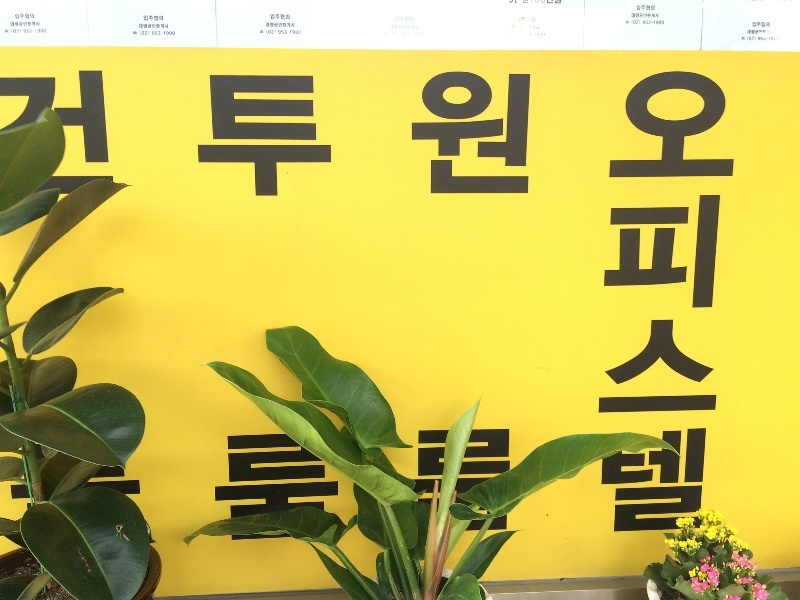text: (625, 69, 640, 533), (641, 69, 656, 533), (657, 69, 672, 533), (673, 69, 688, 533), (689, 69, 704, 533), (705, 69, 720, 533), (721, 69, 736, 533), (610, 69, 624, 533), (737, 69, 743, 533), (1, 72, 16, 200), (17, 72, 32, 200), (33, 72, 48, 200), (49, 72, 64, 200), (65, 72, 80, 200), (81, 72, 96, 200), (97, 72, 112, 200), (113, 72, 128, 200), (129, 72, 144, 200), (145, 72, 160, 200), (161, 72, 176, 200), (177, 72, 192, 200), (193, 72, 208, 200), (209, 72, 224, 200), (225, 72, 240, 200), (241, 72, 256, 200), (257, 72, 272, 200), (273, 72, 288, 200), (289, 72, 304, 200), (305, 72, 320, 200), (321, 72, 336, 200), (337, 72, 352, 200), (353, 72, 368, 200), (369, 72, 384, 200), (385, 72, 400, 200), (401, 72, 416, 200), (417, 72, 432, 200), (433, 72, 448, 200), (449, 72, 464, 200), (465, 72, 480, 200), (481, 72, 496, 200), (497, 72, 512, 200), (513, 72, 528, 200), (497, 428, 513, 534), (225, 434, 240, 544), (241, 434, 256, 544), (257, 434, 272, 544), (273, 434, 288, 544), (289, 434, 304, 544), (305, 434, 320, 544), (321, 434, 336, 544), (417, 428, 432, 534), (433, 428, 448, 534), (449, 428, 464, 534), (465, 428, 480, 534), (481, 428, 496, 534), (337, 434, 350, 544), (217, 434, 224, 544), (529, 72, 532, 200), (414, 428, 416, 534), (753, 22, 768, 28), (273, 14, 288, 20), (145, 16, 160, 22), (641, 5, 655, 11), (531, 17, 544, 23), (401, 25, 416, 30), (273, 23, 288, 28), (145, 24, 160, 29), (17, 14, 32, 19), (161, 31, 175, 36), (401, 17, 414, 22), (403, 32, 416, 37), (753, 30, 768, 34), (641, 14, 656, 18), (513, 1, 528, 5), (529, 1, 544, 5), (545, 1, 560, 5), (518, 17, 528, 23), (532, 26, 544, 31), (289, 30, 301, 35), (17, 22, 32, 26), (33, 29, 47, 33), (643, 21, 656, 25), (391, 25, 400, 30), (279, 30, 288, 35), (151, 31, 160, 36), (521, 17, 528, 23), (758, 37, 768, 41), (769, 37, 779, 41), (161, 24, 169, 29), (535, 33, 544, 37), (632, 14, 640, 18), (632, 21, 640, 25), (24, 29, 32, 33), (266, 23, 272, 28), (289, 23, 295, 28), (657, 21, 664, 25), (393, 32, 400, 36), (33, 22, 40, 26), (395, 17, 400, 22), (139, 24, 144, 29), (769, 30, 775, 34), (636, 5, 640, 11), (417, 33, 425, 36), (267, 31, 272, 35), (139, 31, 144, 35), (145, 31, 150, 35), (11, 22, 16, 26), (11, 30, 16, 34), (748, 30, 752, 34), (748, 37, 752, 41), (17, 30, 21, 34), (753, 37, 756, 41), (509, 1, 512, 5), (513, 26, 516, 30), (270, 14, 272, 20), (273, 31, 276, 35), (161, 16, 163, 22), (417, 25, 419, 30), (657, 14, 659, 18), (769, 22, 770, 28), (414, 33, 416, 36), (289, 14, 290, 20), (143, 16, 144, 22), (15, 14, 16, 19), (33, 14, 34, 19), (561, 1, 562, 5)
